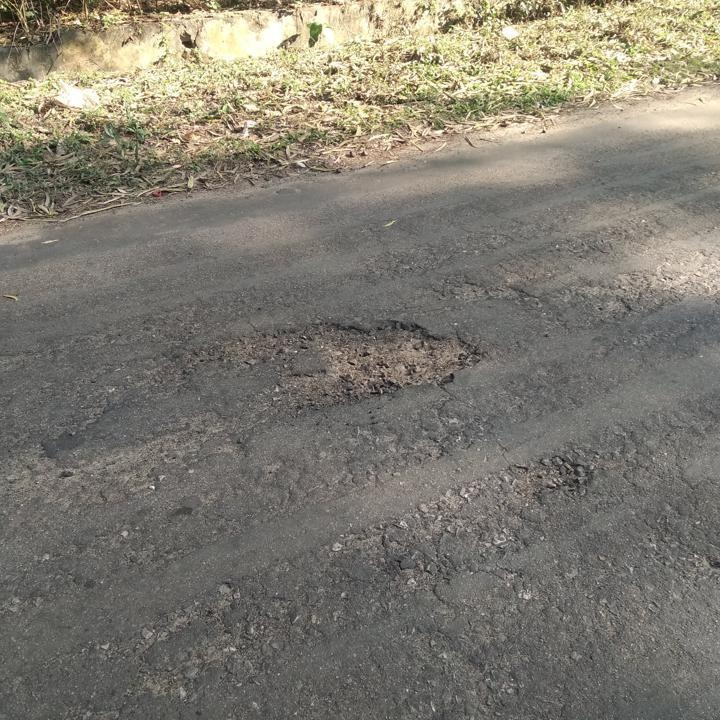pothole: (192, 314, 488, 412), (508, 451, 596, 506)
